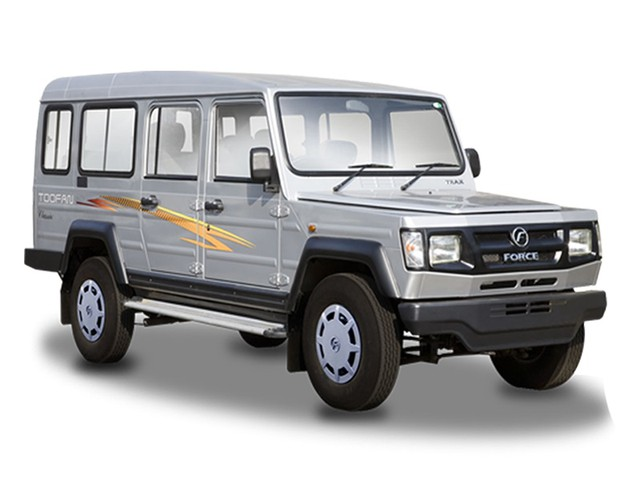Vehicle: (23, 64, 612, 412)
